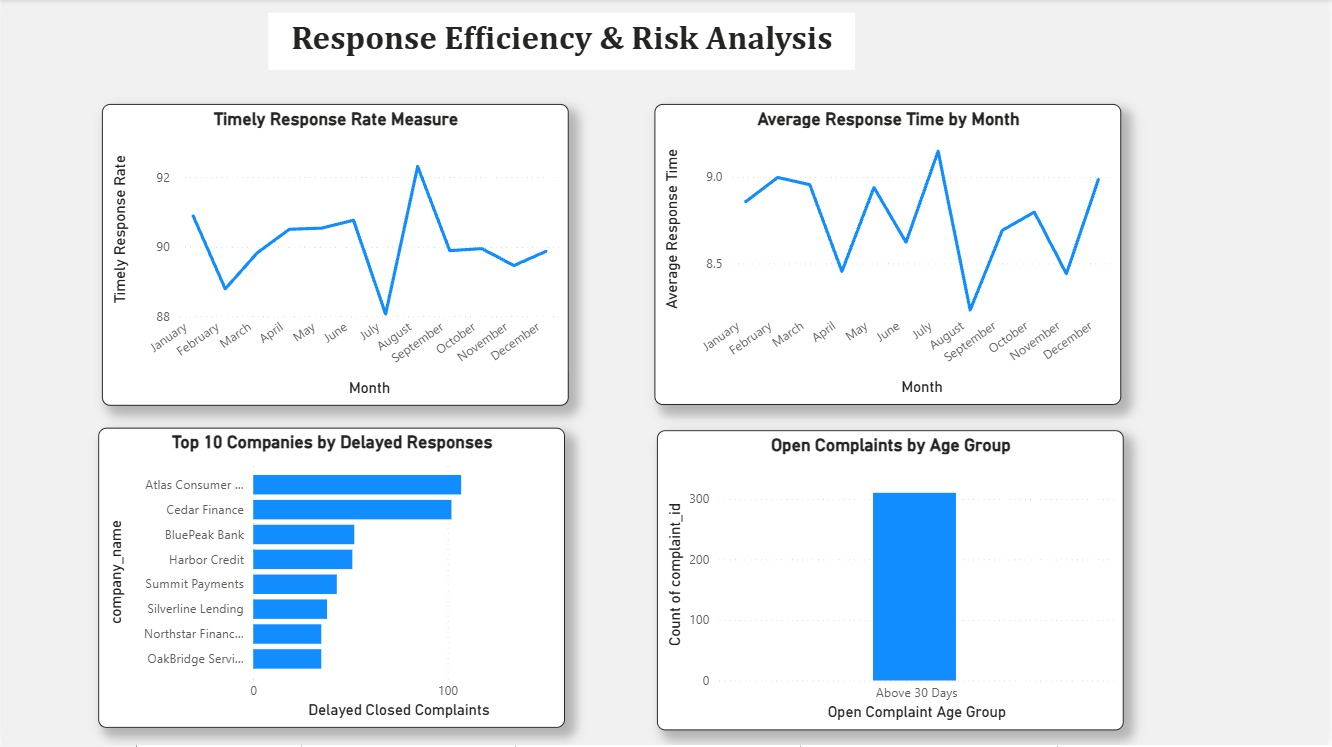

This screenshot's page, from the dashboard's own definition file:
{"tool":"powerbi","page":{"name":"Response Efficiency & Risk Analysis","canvas":[1280,720],"ordinal":4},"visuals":[{"type":"textbox","box":[256.6,13.7,566.7,54.9],"z":0},{"type":"lineChart","title":"Timely Response Rate Measure","fields":{"Category":["Cleaned Data.date_received.Variation.Date Hierarchy.Month"],"Y":["Cleaned Data.Timely Response Rate"]},"box":[96.1,101.5,450.1,290.9],"z":1},{"type":"lineChart","title":"\tAverage Response Time by Month","fields":{"Category":["Cleaned Data.date_received.Variation.Date Hierarchy.Month"],"Y":["Cleaned Data.Average Response Time"]},"box":[629.8,101.5,450.1,290],"z":2},{"type":"clusteredBarChart","title":"\tTop 10 Companies by Delayed Responses","fields":{"Category":["Cleaned Data.company_name"],"Y":["Cleaned Data.Delayed Closed Complaints"]},"box":[93.3,414.4,450.1,289.5],"z":3},{"type":"clusteredColumnChart","title":"Open Complaints by Age Group","fields":{"Category":["Cleaned Data.Open Complaint Age Group"],"Y":["CountNonNull(Cleaned Data.complaint_id)"]},"box":[632.6,415.8,450.1,289.5],"z":4}]}

Visuals, with their boxes in screenshot pixels (x1, y1, x2, y2), scaled from the page's 1280x720 canvas onto the 1332x747 screenshot:
textbox: bbox(267, 14, 857, 71)
"Timely Response Rate Measure" lineChart: bbox(100, 105, 568, 407)
"	Average Response Time by Month" lineChart: bbox(655, 105, 1124, 406)
"	Top 10 Companies by Delayed Responses" clusteredBarChart: bbox(97, 430, 565, 730)
"Open Complaints by Age Group" clusteredColumnChart: bbox(658, 431, 1127, 732)
